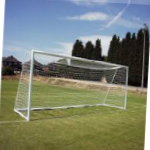goals: (14, 50, 130, 123)
